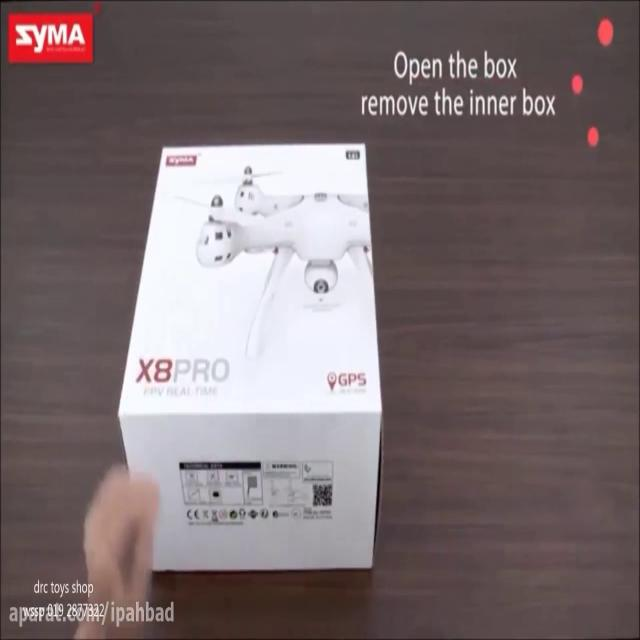drone: (174, 162, 376, 352)
